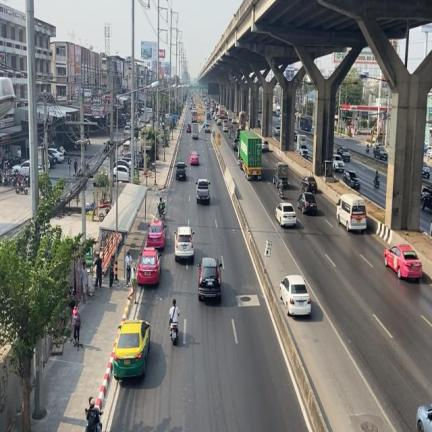car: (279, 275, 310, 315), (198, 257, 221, 301), (174, 226, 194, 261), (275, 202, 296, 226), (297, 192, 317, 213), (273, 162, 288, 188), (196, 179, 209, 204), (344, 170, 360, 188), (302, 176, 317, 193), (176, 162, 186, 180)
human: (86, 398, 101, 431), (81, 260, 91, 301), (128, 267, 137, 303), (94, 254, 102, 288), (73, 306, 80, 344), (169, 300, 180, 324), (125, 252, 132, 286), (109, 256, 114, 288), (158, 198, 165, 217)
motorbike: (170, 322, 178, 344), (10, 170, 20, 187), (85, 421, 101, 431), (15, 181, 27, 194), (2, 172, 9, 185), (159, 208, 164, 219), (99, 410, 103, 416), (85, 408, 88, 413)
taxi: (113, 320, 149, 378), (384, 244, 421, 278), (138, 247, 161, 285), (146, 220, 166, 248)
truck: (239, 130, 261, 180), (273, 162, 288, 188)
van: (337, 194, 366, 230)
